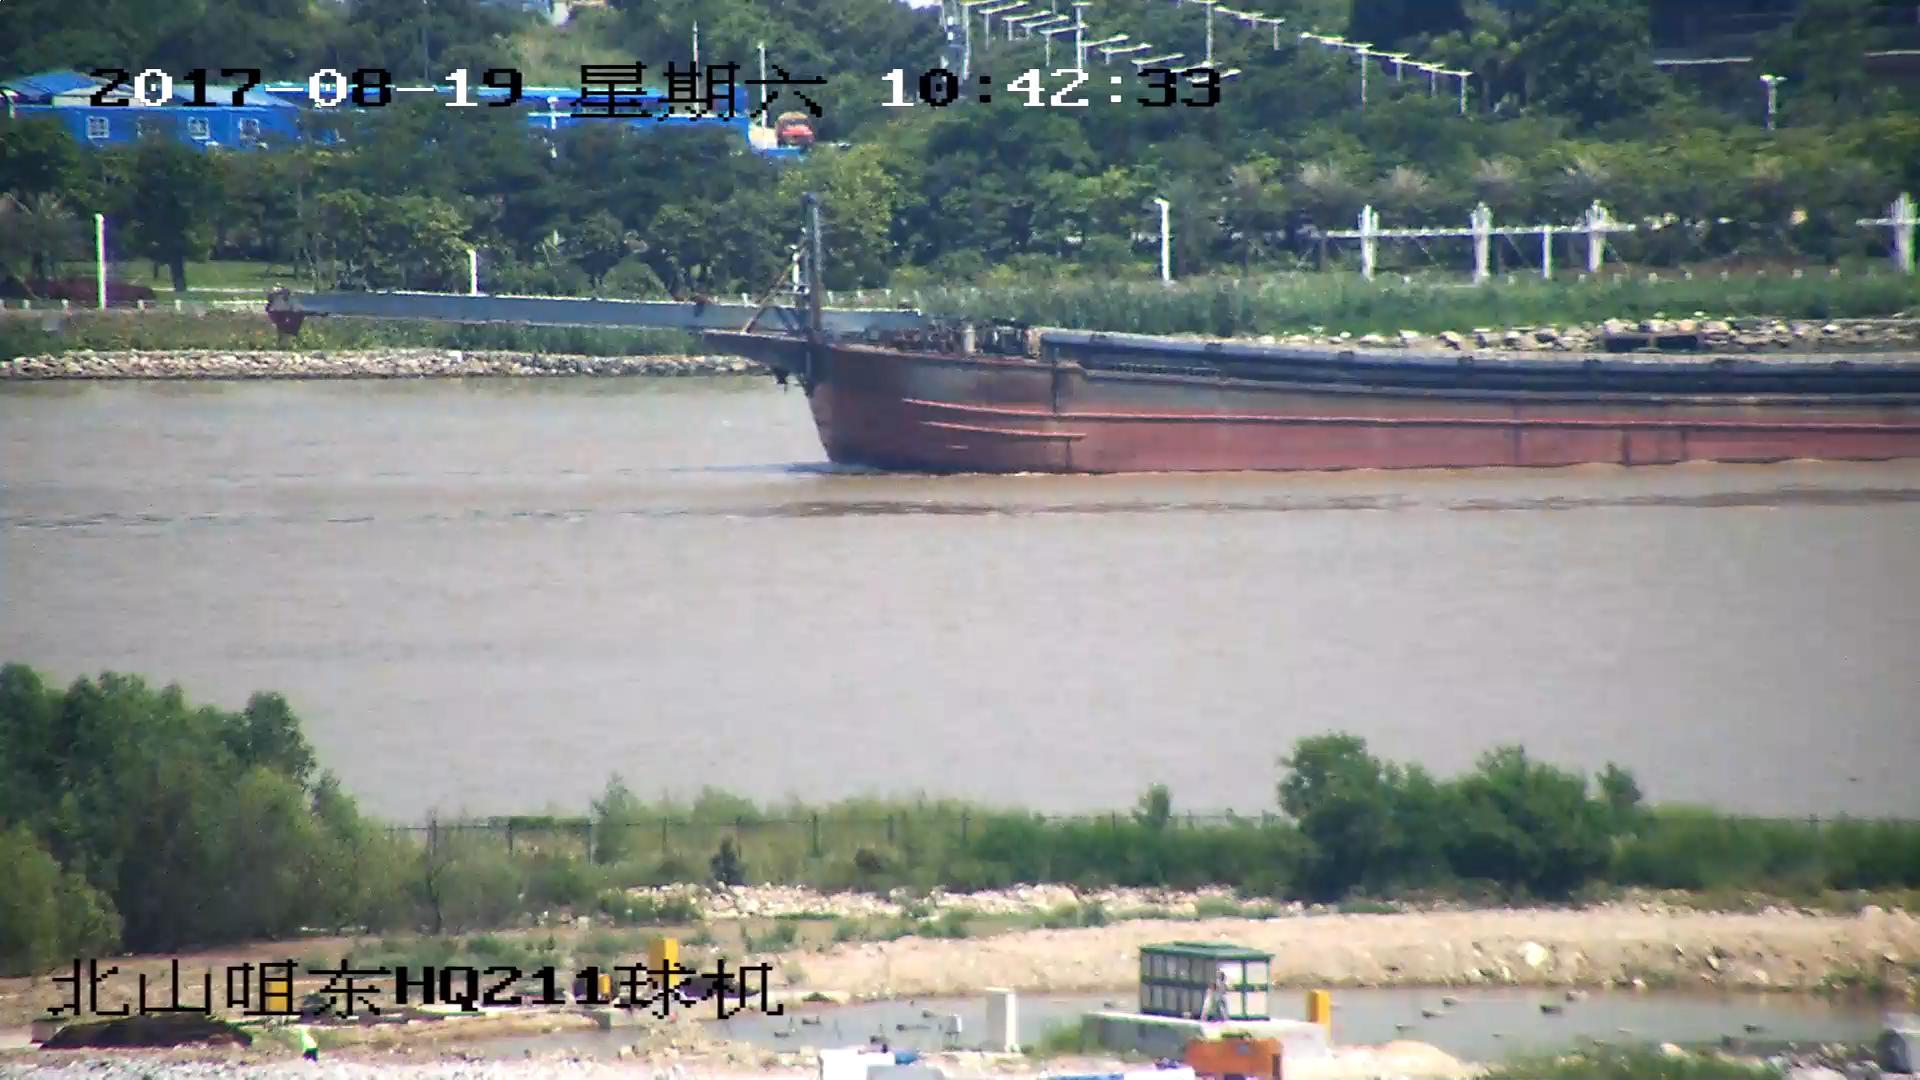Ship: (269, 200, 1920, 476)
